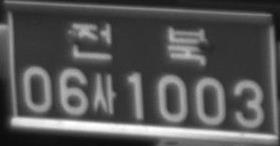0: (21, 64, 53, 113), (157, 73, 188, 123), (195, 76, 226, 126)
1: (124, 71, 150, 120)
3: (233, 78, 266, 129)
6: (58, 67, 89, 116)
사: (91, 71, 118, 115)
전북_D: (70, 20, 207, 67)
